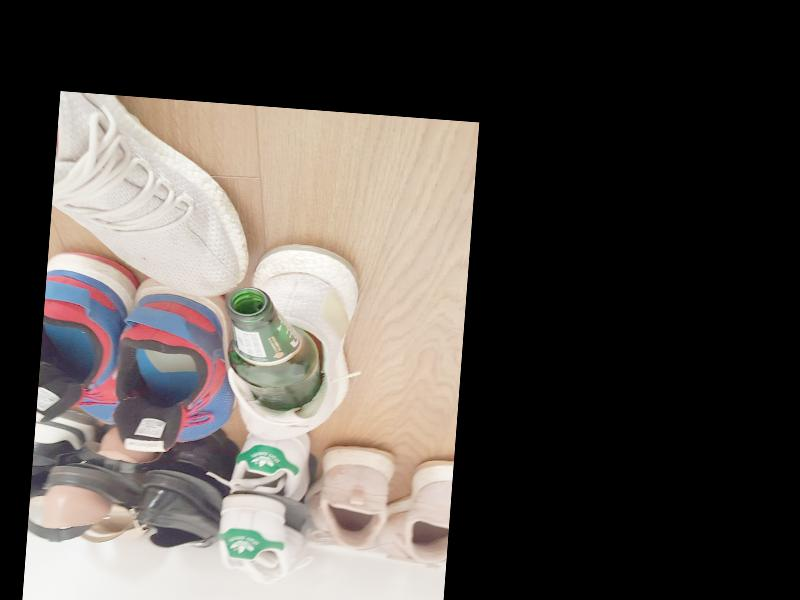Beer: (220, 286, 326, 411)
